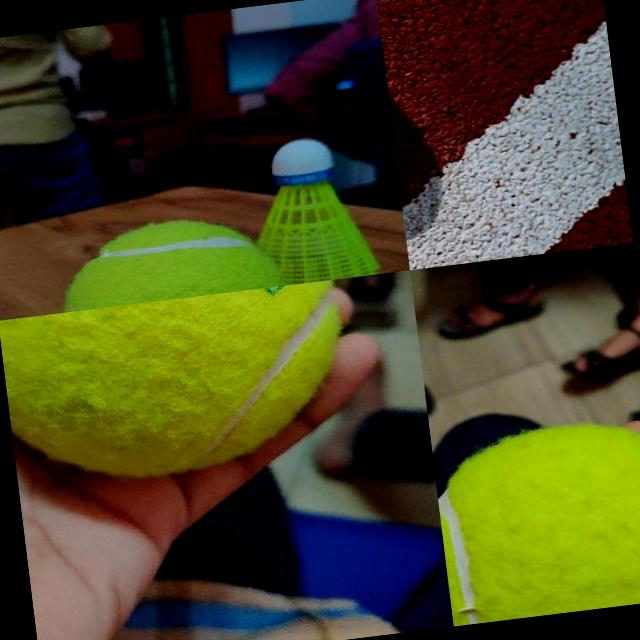tennis-ball: (0, 279, 354, 490), (430, 415, 640, 625), (53, 208, 288, 312)
